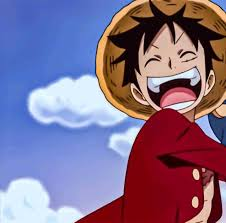luffy: (95, 1, 226, 124)
